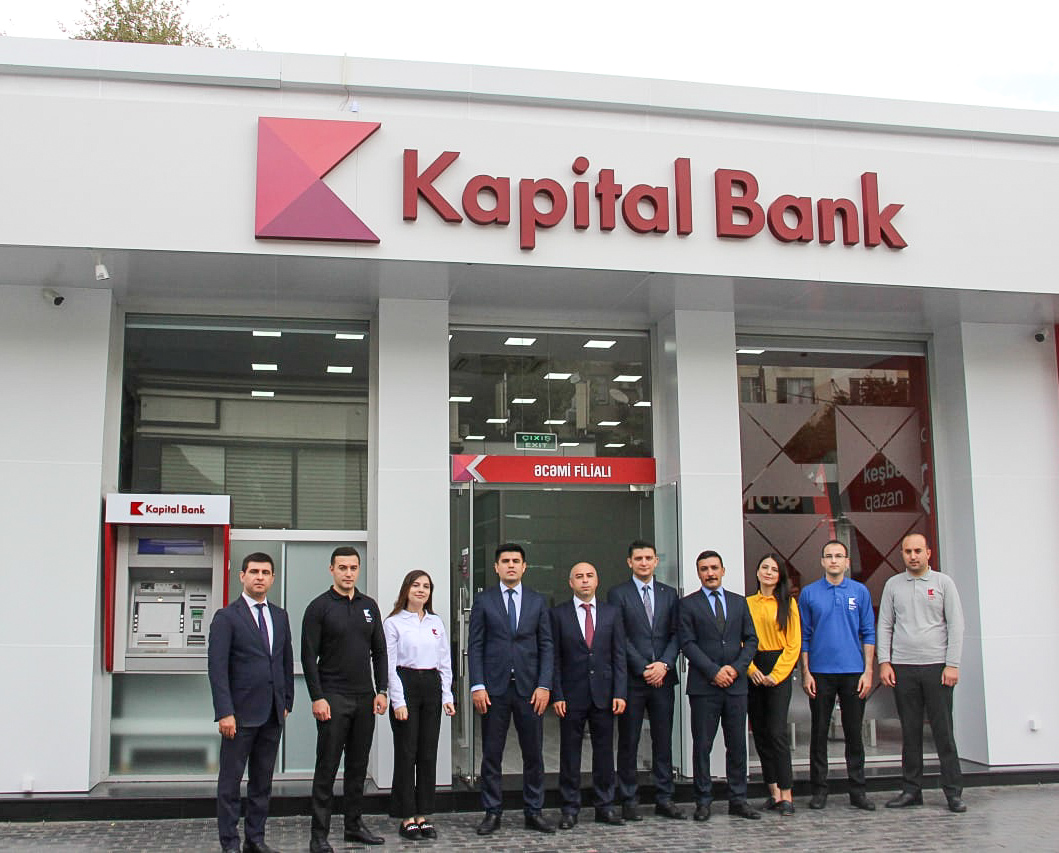Kapital Bank: (253, 113, 385, 246)
